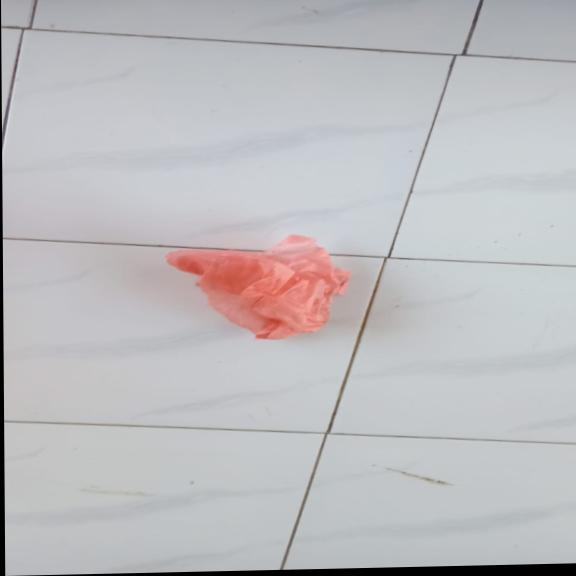Plastik: (163, 233, 350, 343)
